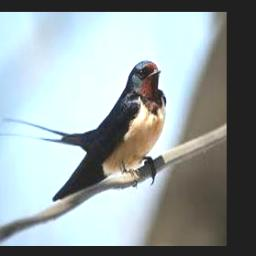Swallow: (0, 59, 166, 202)
